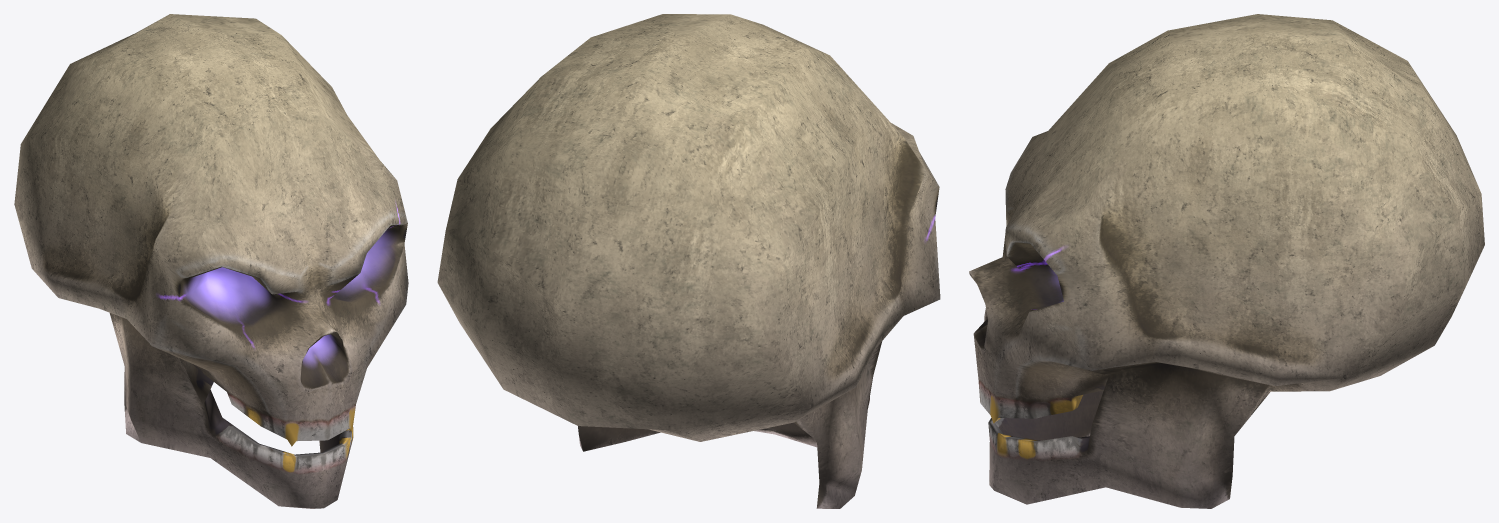
The model's file is skull.glb.
3 renders of one model, left to right at view 1: azimuth 30°, elevation 25°; view 2: azimuth 150°, elevation 25°; view 3: azimuth 270°, elevation 25°, orthographic. The views are drawn at different scales.
Parts seen in each view (by area): view 1: Object_2; view 2: Object_2; view 3: Object_2.
Boxes of the visible parts, box(x1,y1,x2,y2) form: Object_2: box(14, 14, 408, 508); Object_2: box(437, 14, 940, 508); Object_2: box(969, 14, 1484, 508).
Size of the model in its own units: 1.6 by 2.1 by 2.12.
1 material, 1 textured.
